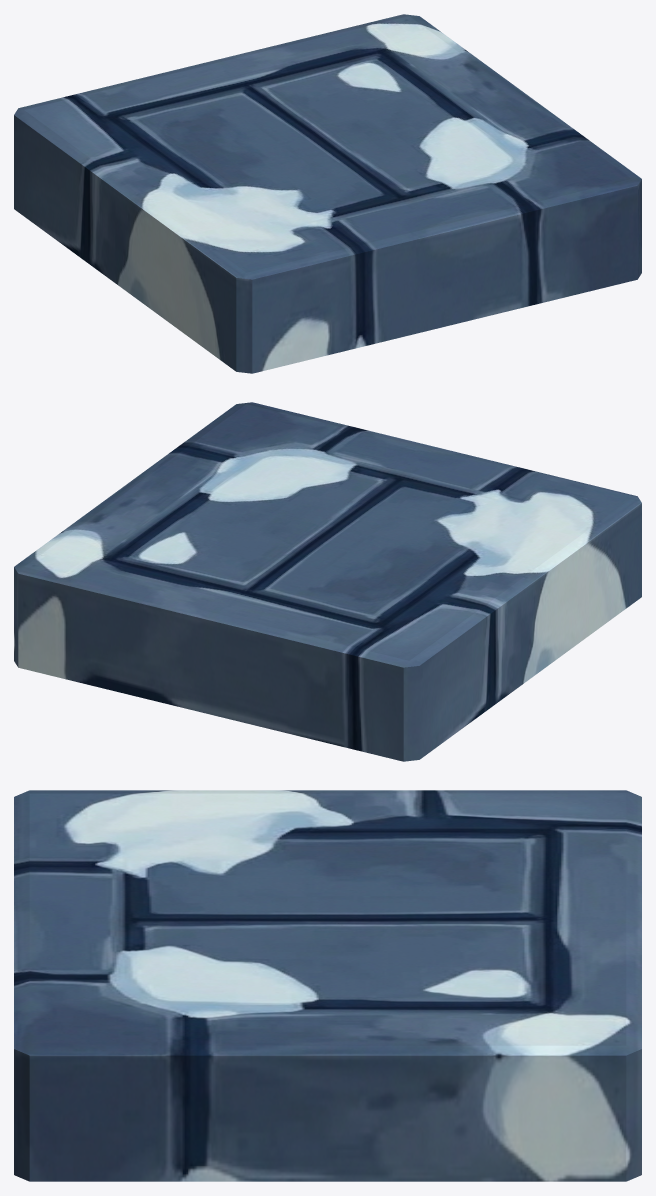
File: stoneTiles07.glb
3 renders of one model, top to bottom at view 1: azimuth 30°, elevation 25°; view 2: azimuth 150°, elevation 25°; view 3: azimuth 270°, elevation 25°, orthographic. The views are drawn at different scales.
Parts seen in each view (by area): view 1: StoneTiles07; view 2: StoneTiles07; view 3: StoneTiles07.
Boxes of the visible parts, box(x1,y1,x2,y2) form: StoneTiles07: box(14, 14, 641, 373); StoneTiles07: box(14, 402, 641, 761); StoneTiles07: box(14, 790, 641, 1181).
Size of the model in its own units: 3 by 0.7 by 3.
Materials: 1 (1 with a texture image).
